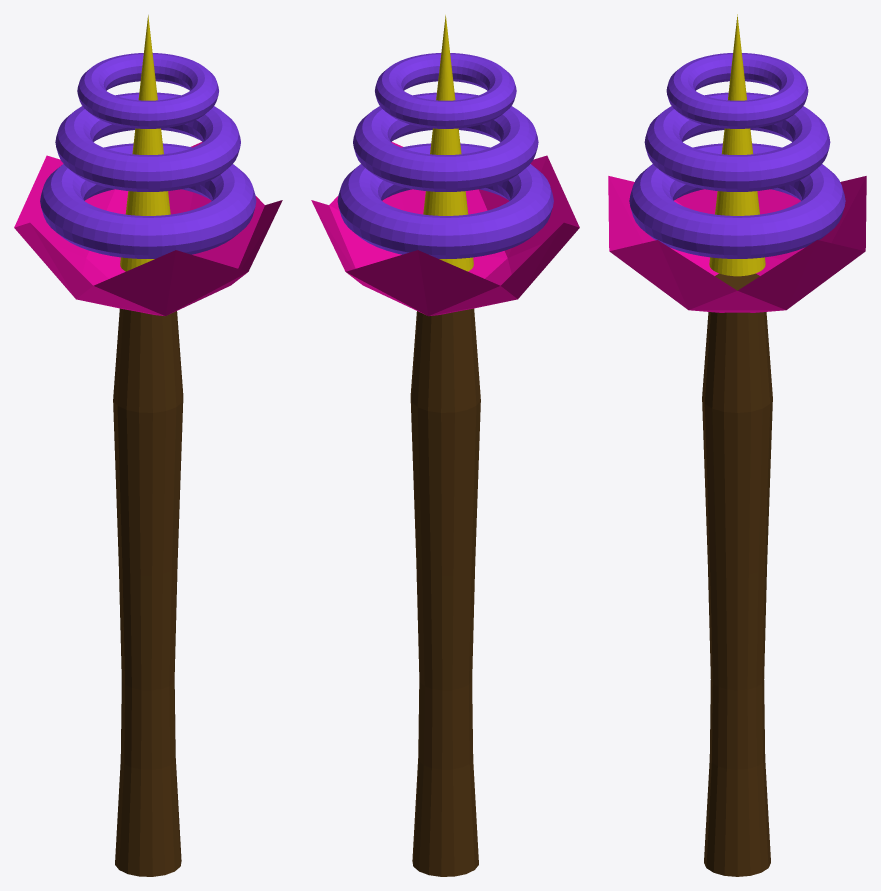
File: sceptre.glb
3 renders of one model, left to right at view 1: azimuth 30°, elevation 25°; view 2: azimuth 150°, elevation 25°; view 3: azimuth 270°, elevation 25°, orthographic.
Visible parts, largest first — view 1: scepter, Torus, Icosphere, Cone; view 2: scepter, Torus, Icosphere, Cone; view 3: scepter, Torus, Icosphere, Cone.
Part boxes in pixels (<box>): scepter: <box>113,308,183,876</box>; Torus: <box>40,53,256,258</box>; Icosphere: <box>14,142,282,316</box>; Cone: <box>120,15,170,271</box>; scepter: <box>410,308,480,876</box>; Torus: <box>337,53,553,258</box>; Icosphere: <box>311,142,579,316</box>; Cone: <box>423,15,473,271</box>; scepter: <box>702,273,772,876</box>; Torus: <box>629,53,845,258</box>; Icosphere: <box>608,176,866,312</box>; Cone: <box>709,14,765,276</box>.
Size of the model in its own units: 0.0502 by 0.1733 by 0.0478.
